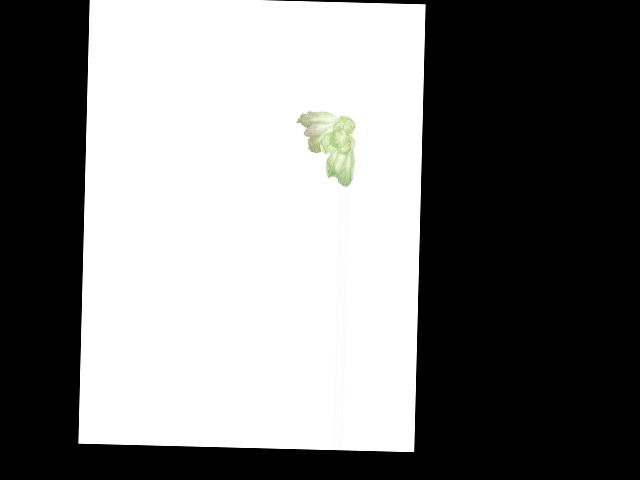lettuce: (291, 109, 360, 187)
